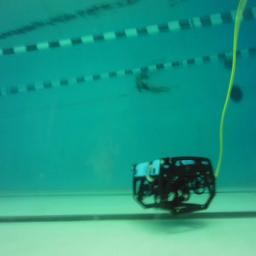Side: (128, 155, 218, 216)
